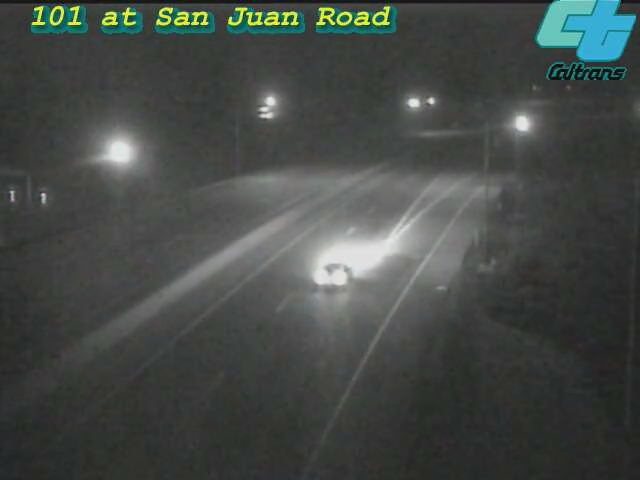vehicle: (294, 232, 374, 312), (500, 99, 550, 149)
